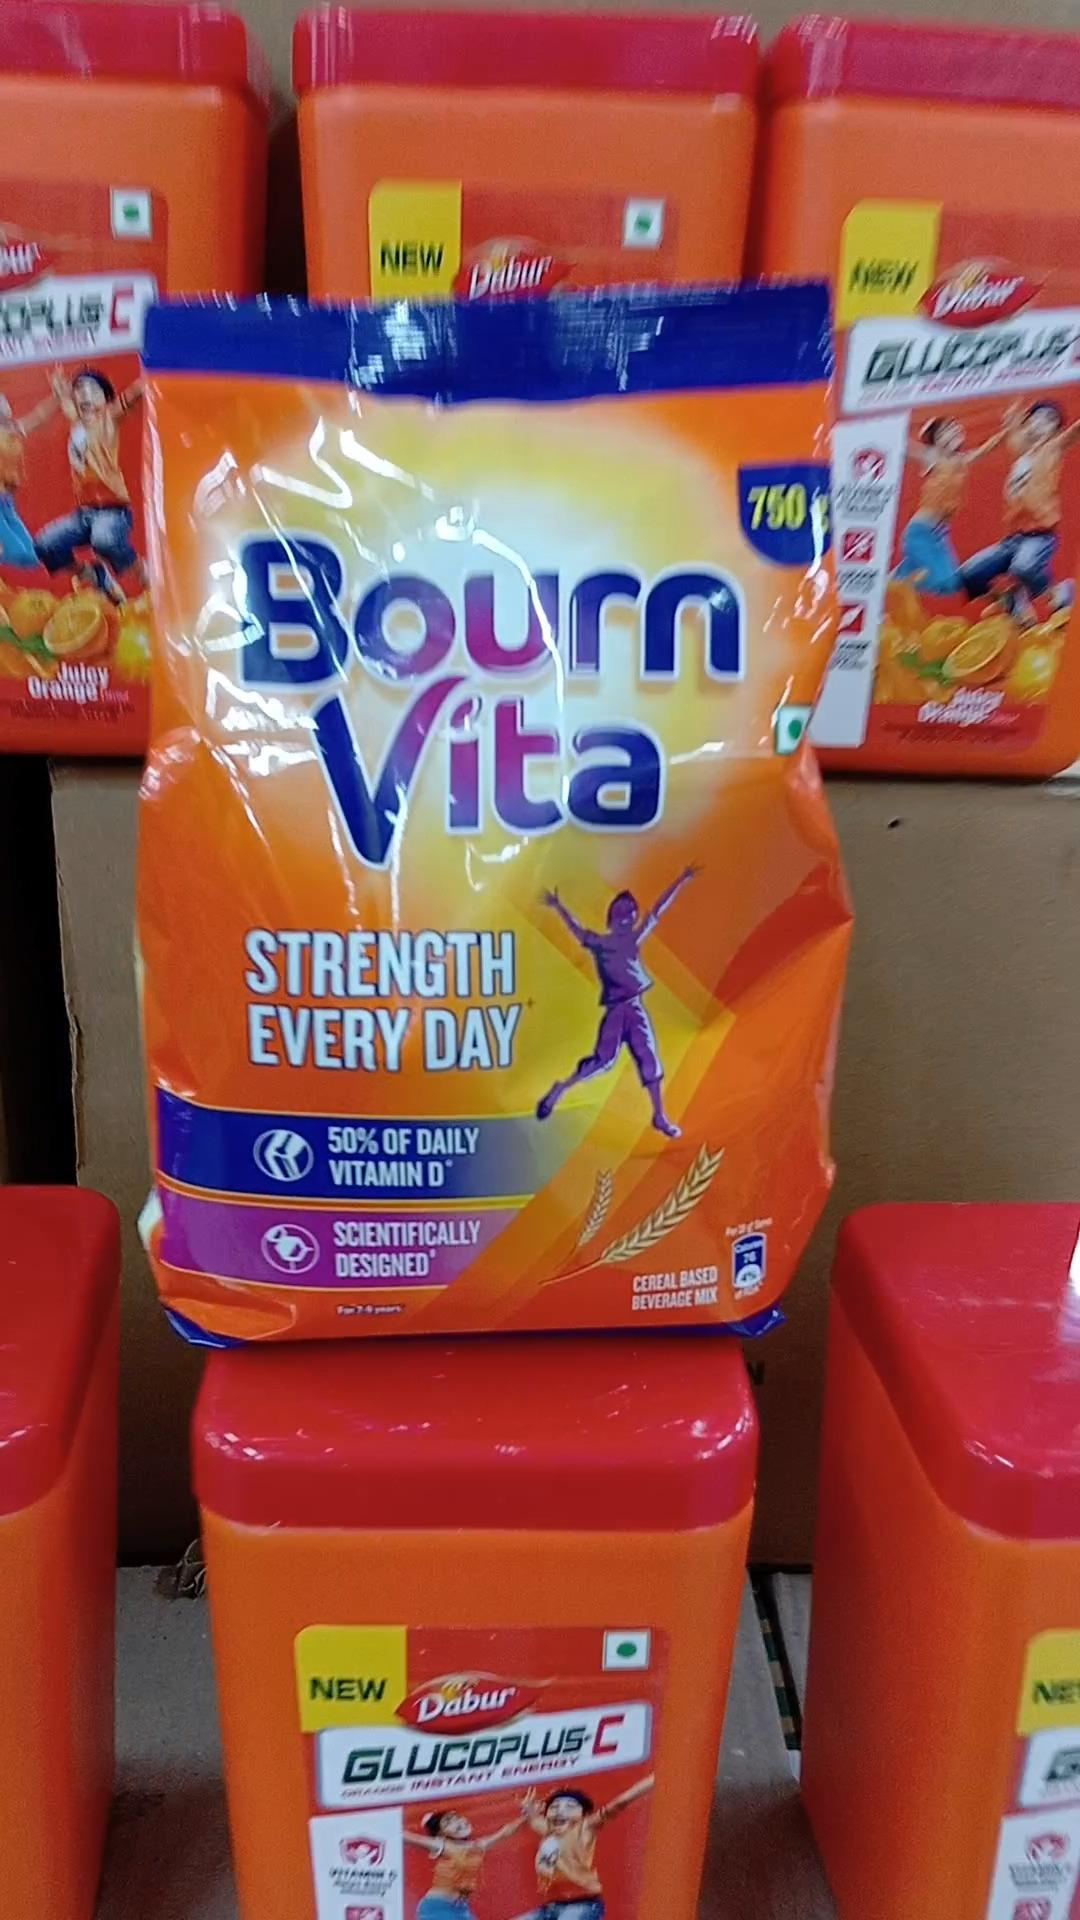BOURN_VITA_750_G_POUCH: (145, 265, 860, 1379)
